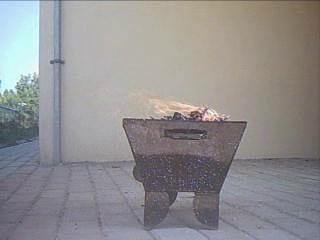fire: (135, 84, 231, 124)
